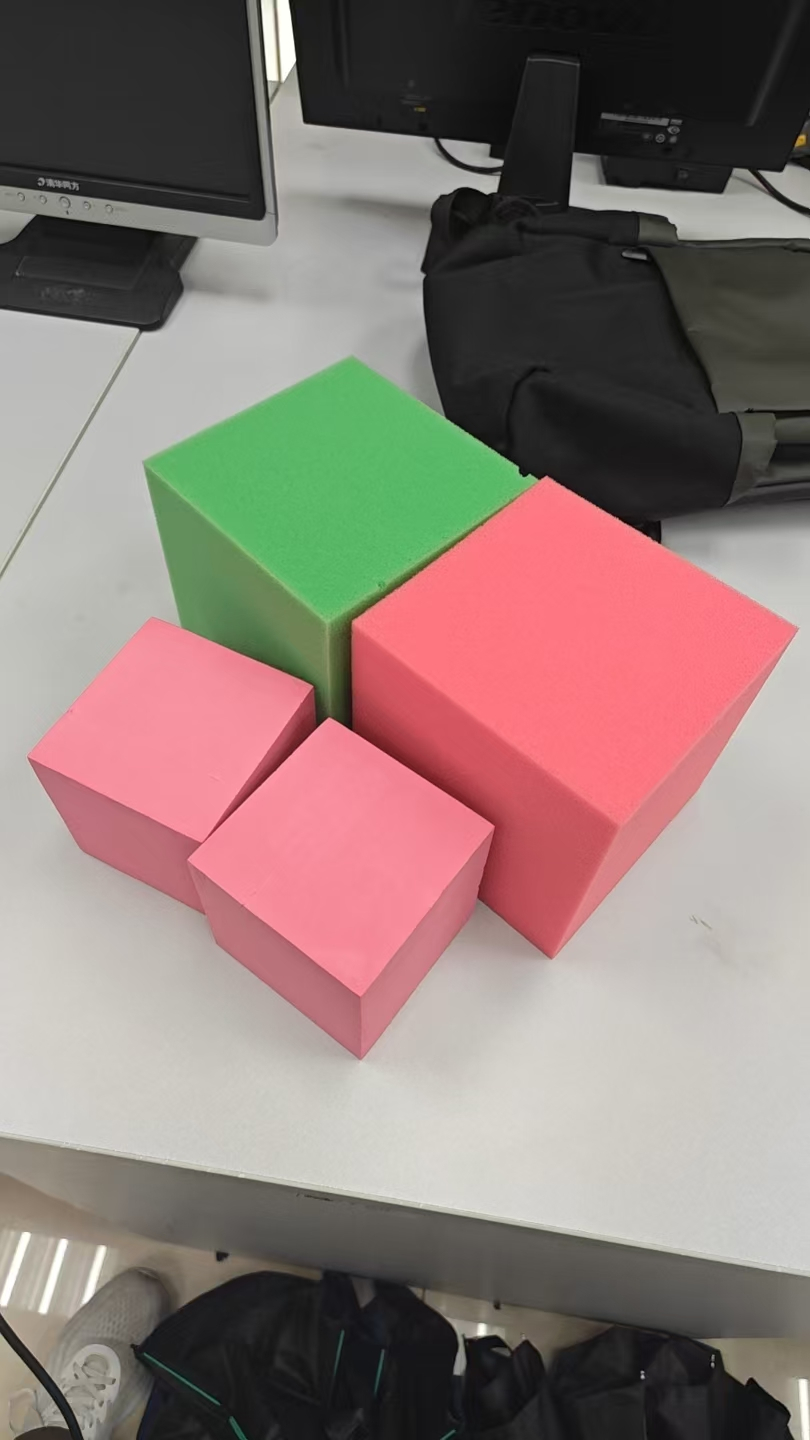green_large: (140, 354, 537, 719)
red_large: (352, 475, 795, 960)
